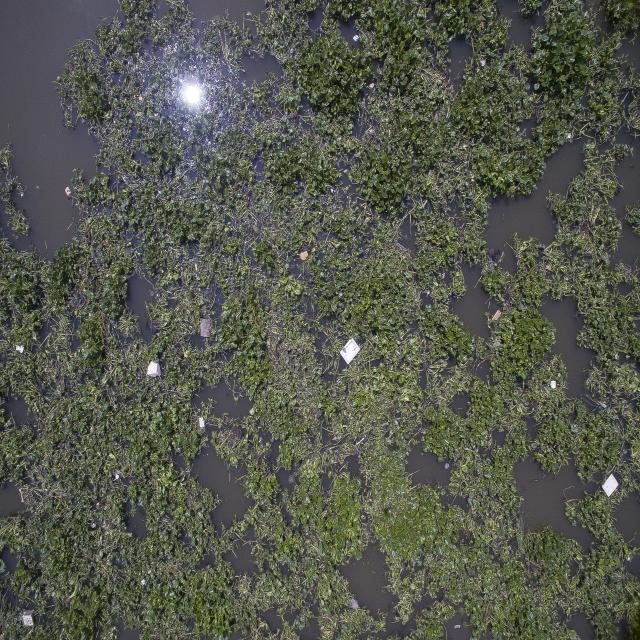plastic: (596, 465, 628, 505), (336, 333, 363, 371), (194, 313, 220, 347), (142, 356, 167, 384), (18, 608, 39, 638), (541, 369, 562, 396), (196, 403, 209, 440), (14, 338, 28, 363), (475, 53, 492, 73), (350, 26, 363, 50)
